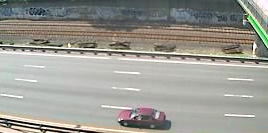car: (115, 106, 171, 131)
